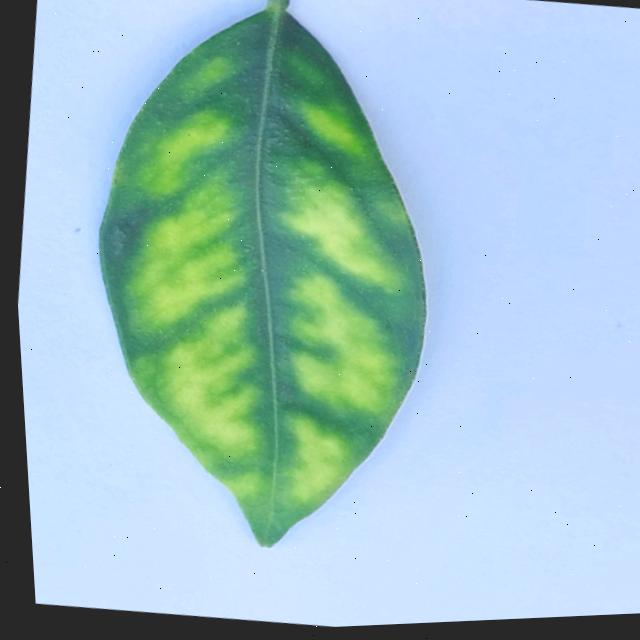greening: (99, 0, 425, 546)
